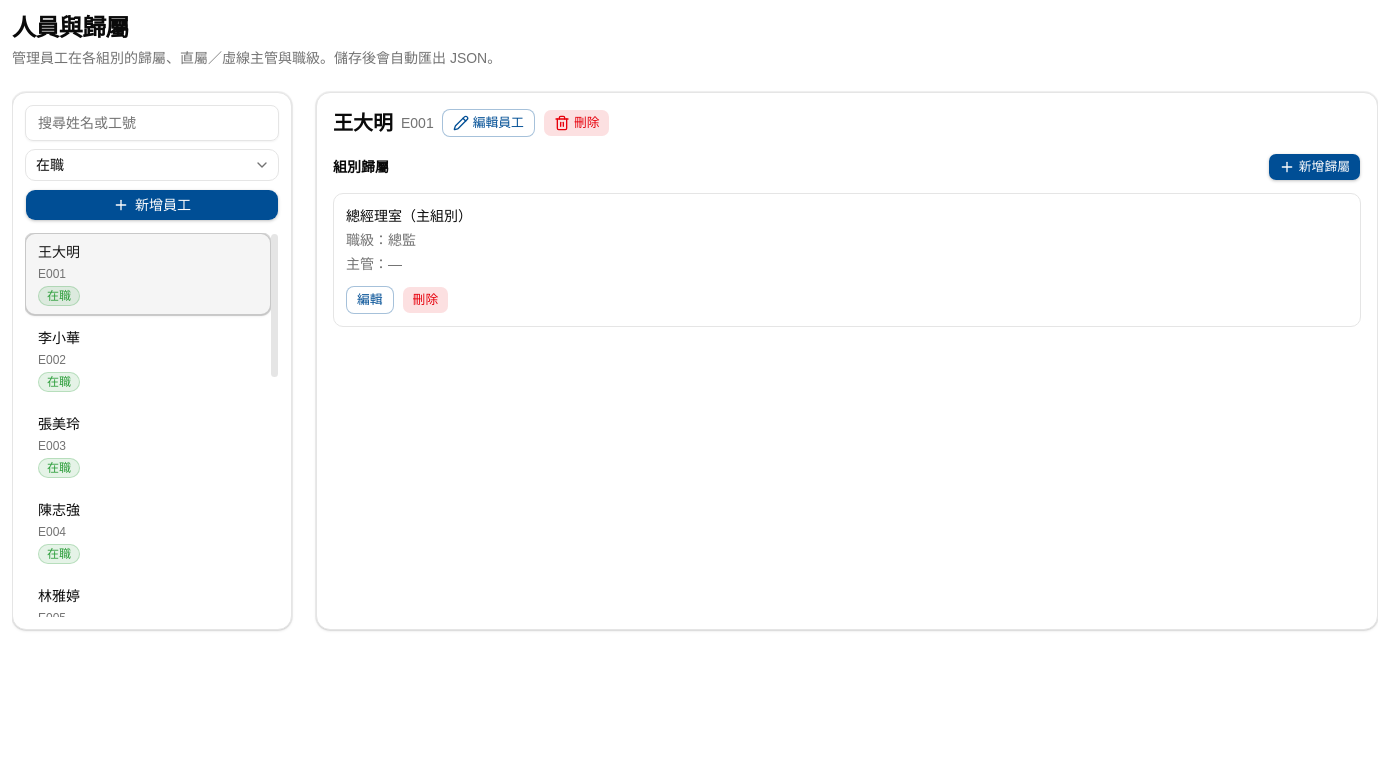
PeoplePage 人員與歸屬 › 點擊歸屬上的「編輯」會展開編輯器，取消後恢復
The width and height of the screenshot is (1378, 780).
Click the button "編輯" at (370,300), box [346,286,394,314]
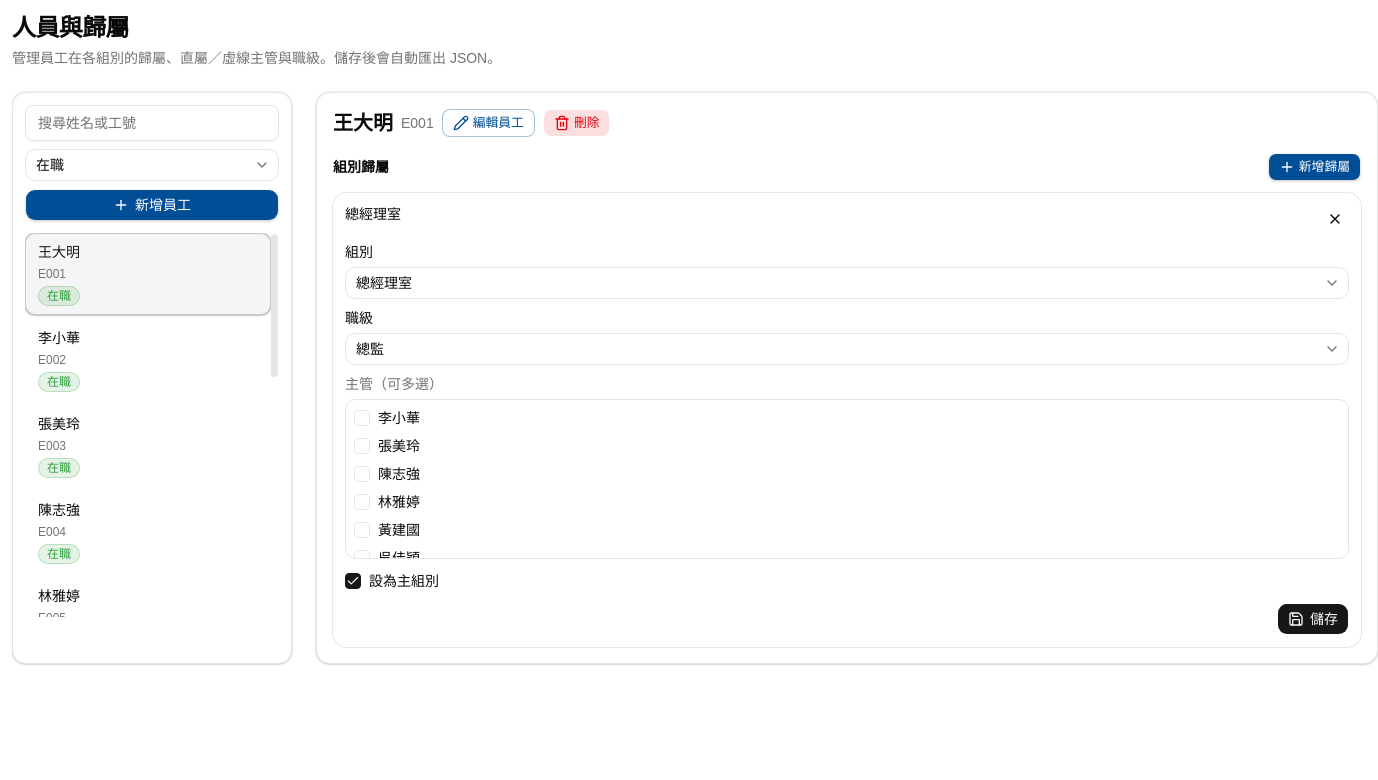
# 編輯器中的取消圖示鈕
Click the button named "取消" at (1335,219), box [1321,205,1349,233]
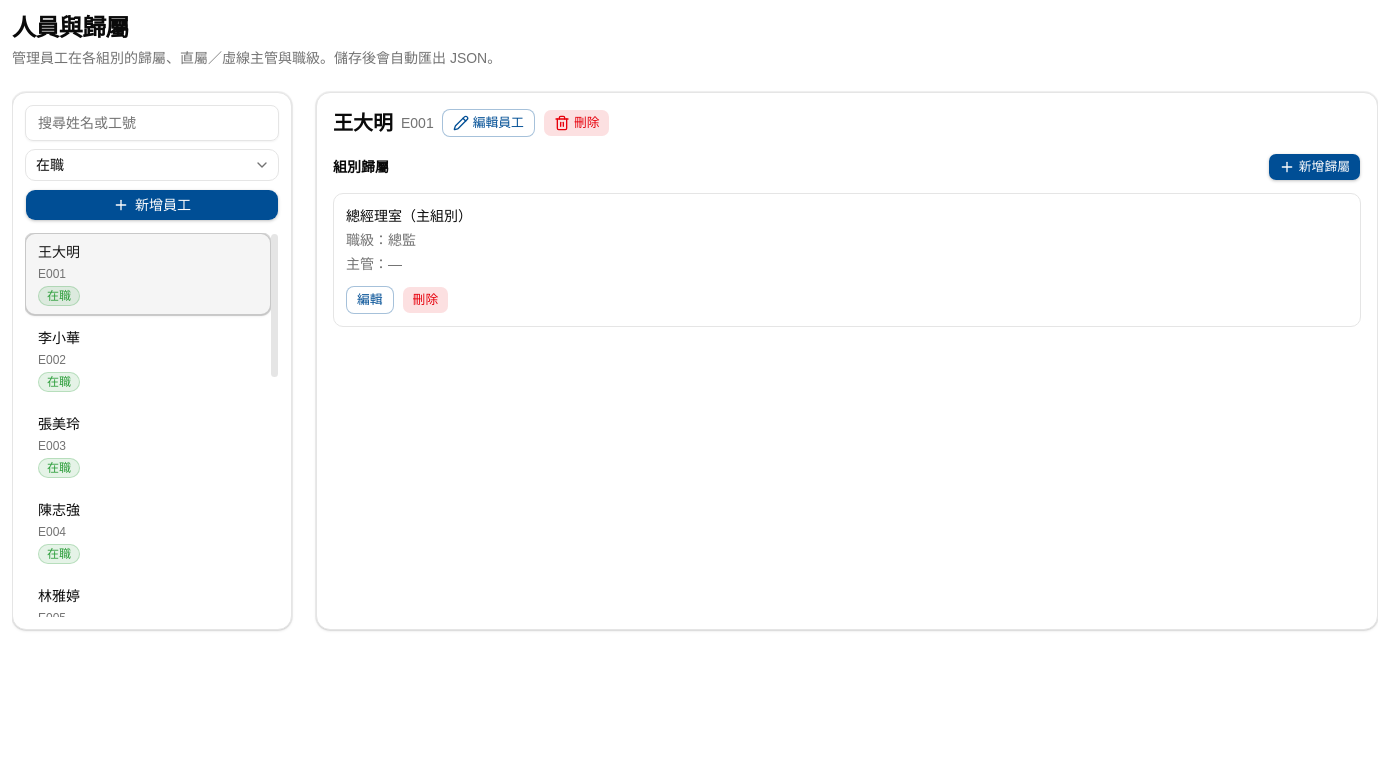
Now the button "編輯" is shown, box [346,286,394,314]
